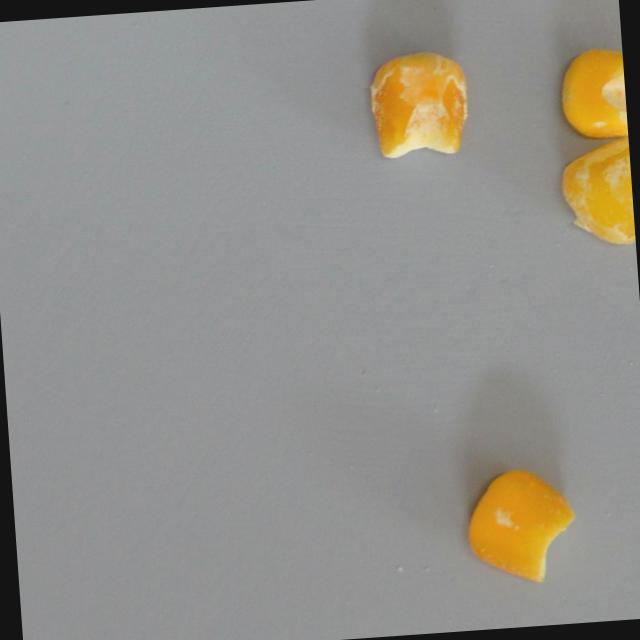pelicula: (461, 464, 580, 587), (364, 46, 471, 162), (557, 136, 636, 251), (555, 45, 628, 141)
